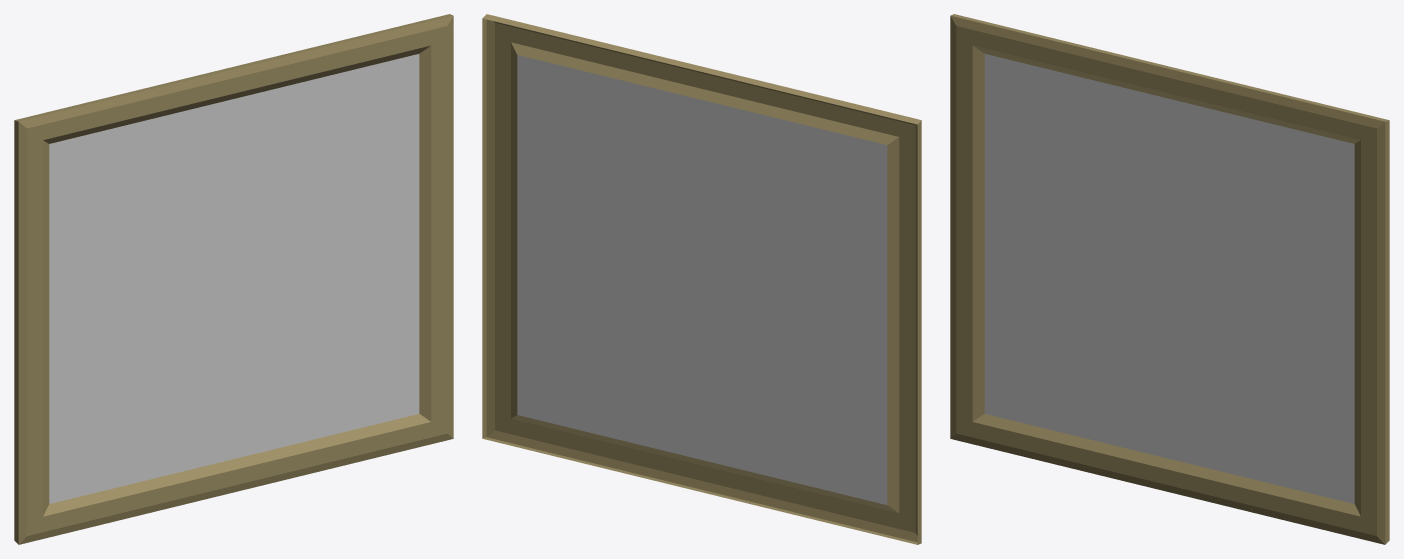
The model's file is frame_achievement.gltf.
The picture shows the model from 3 angles, left to right: view 1: azimuth 30°, elevation 25°; view 2: azimuth 150°, elevation 25°; view 3: azimuth 330°, elevation 25°; orthographic projection.
Visible parts, largest first — view 1: Plane.007; view 2: Plane.007; view 3: Plane.007.
Part boxes in pixels (left/top/right/bottom): Plane.007: left=14, top=14, right=453, bottom=544; Plane.007: left=482, top=14, right=921, bottom=544; Plane.007: left=950, top=14, right=1389, bottom=544.
Bounding box in the file's own units: 2.33 × 2.17 × 0.0483.
